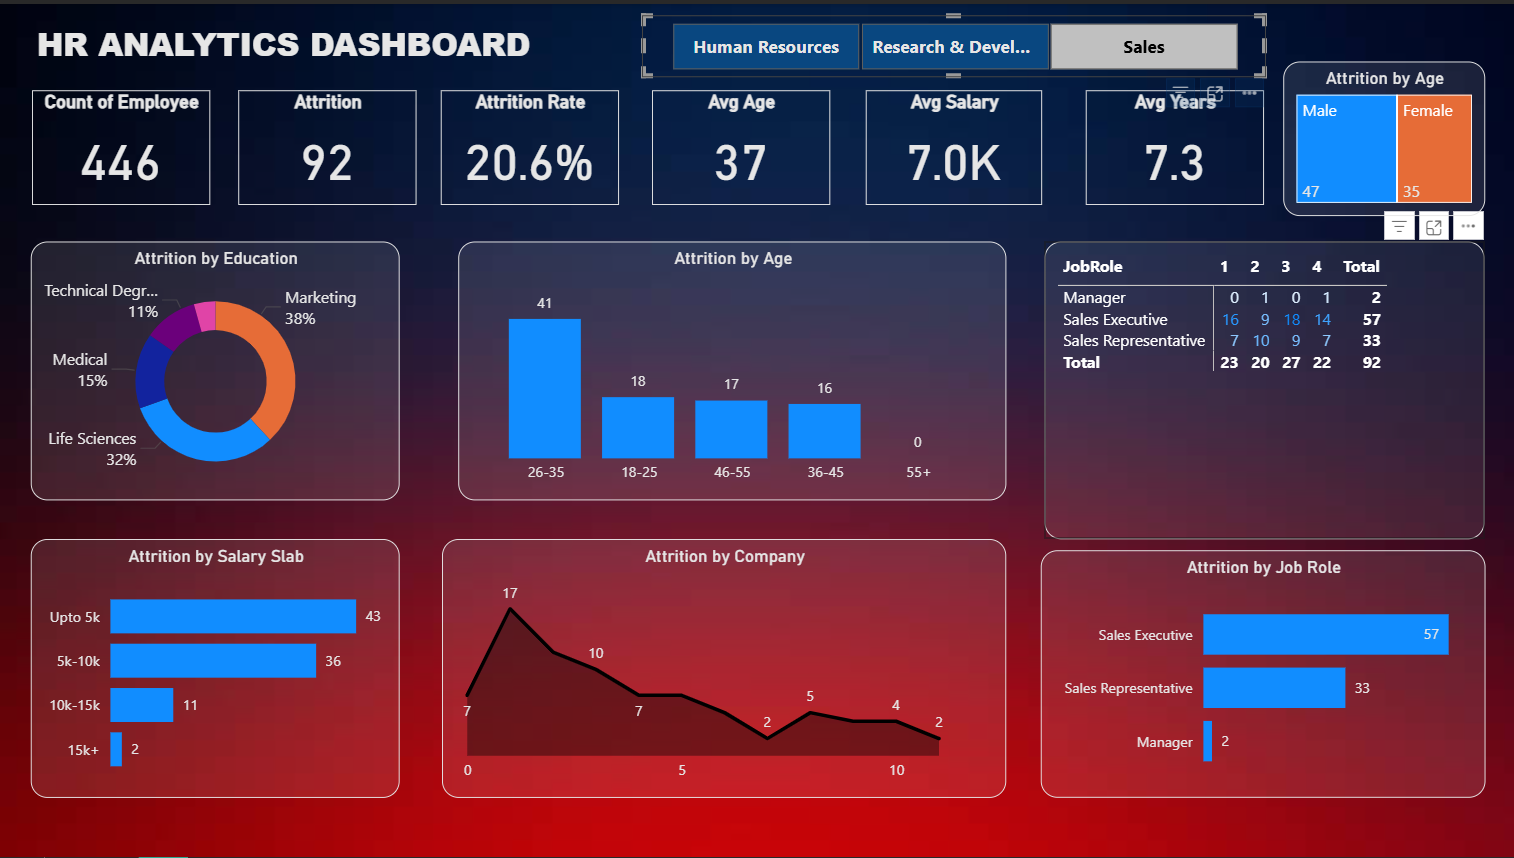

The dashboard page shown, as its layout file describes it:
{"tool":"powerbi","page":{"name":"Page 1","canvas":[1280,720],"ordinal":0},"visuals":[{"type":"card","title":"Count of Employee","fields":{"Values":["CountNonNull(HR_Analytics.EmpID)"]},"box":[29.1,73.3,150,96.5],"z":0},{"type":"card","title":"Avg Age","fields":{"Values":["Avg(HR_Analytics.Age)"]},"box":[552.3,73.3,150,96.5],"z":1000},{"type":"card","title":"Attrition Rate","fields":{"Values":["HR_Analytics.AttritionRate"]},"box":[374.4,73.3,150,96.5],"z":2000},{"type":"card","title":"Attrition","fields":{"Values":["Sum(HR_Analytics.AttritionCount)"]},"box":[203.5,73.3,150,96.5],"z":3000},{"type":"card","title":"Avg Years","fields":{"Values":["Avg(HR_Analytics.YearsAtCompany)"]},"box":[918.6,73.3,150,96.5],"z":4000},{"type":"card","title":"Avg Salary","fields":{"Values":["Avg(HR_Analytics.MonthlyIncome)"]},"box":[732.6,73.3,148.8,96.5],"z":5000},{"type":"donutChart","title":"Attrition by Education","fields":{"Category":["HR_Analytics.EducationField"],"Y":["Sum(HR_Analytics.AttritionCount)"]},"box":[28.8,200,311.2,218.8],"z":6000},{"type":"columnChart","title":"Attrition by Age","fields":{"Category":["HR_Analytics.AgeGroup"],"Y":["Sum(HR_Analytics.AttritionCount)"]},"box":[388.8,200,462.5,218.8],"z":7000},{"type":"pivotTable","fields":{"Rows":["HR_Analytics.JobRole"],"Columns":["HR_Analytics.JobSatisfaction"],"Values":["Sum(HR_Analytics.AttritionCount)"]},"box":[883.8,200,371.2,251.2],"z":8000},{"type":"barChart","title":"Attrition by Salary Slab","fields":{"Category":["HR_Analytics.SalarySlab"],"Y":["Sum(HR_Analytics.AttritionCount)"]},"box":[28.8,451.2,311.2,218.8],"z":9000},{"type":"barChart","title":"Attrition by Job Role","fields":{"Category":["HR_Analytics.JobRole"],"Y":["Sum(HR_Analytics.AttritionCount)"]},"box":[880,461.2,375,208.8],"z":10000},{"type":"areaChart","title":"Attrition by Company","fields":{"Category":["HR_Analytics.YearsAtCompany"],"Y":["Sum(HR_Analytics.AttritionCount)"]},"box":[375,451.2,476.2,218.8],"z":11000},{"type":"treemap","title":"Attrition by Age","fields":{"Group":["HR_Analytics.Gender"],"Values":["Sum(HR_Analytics.AttritionCount)"]},"box":[1085,48.8,170,130],"z":12000},{"type":"slicer","fields":{"Values":["HR_Analytics.Department"]},"box":[543.8,10,526.2,52.5],"z":13000},{"type":"textbox","box":[28.8,10,496.2,52.5],"z":14000}]}

Visuals, with their boxes in screenshot pixels (x1, y1, x2, y2), scaled from the page's 1280x720 canvas onto the 1514x858 screenshot:
"Count of Employee" card: select_region(34, 87, 212, 202)
"Avg Age" card: select_region(653, 87, 831, 202)
"Attrition Rate" card: select_region(443, 87, 620, 202)
"Attrition" card: select_region(241, 87, 418, 202)
"Avg Years" card: select_region(1087, 87, 1264, 202)
"Avg Salary" card: select_region(867, 87, 1043, 202)
"Attrition by Education" donutChart: select_region(34, 238, 402, 499)
"Attrition by Age" columnChart: select_region(460, 238, 1007, 499)
pivotTable - HR_Analytics.JobRole x HR_Analytics.JobSatisfaction: select_region(1045, 238, 1484, 538)
"Attrition by Salary Slab" barChart: select_region(34, 538, 402, 798)
"Attrition by Job Role" barChart: select_region(1041, 550, 1484, 798)
"Attrition by Company" areaChart: select_region(444, 538, 1007, 798)
"Attrition by Age" treemap: select_region(1283, 58, 1484, 213)
slicer - HR_Analytics.Department: select_region(643, 12, 1266, 74)
textbox: select_region(34, 12, 621, 74)
